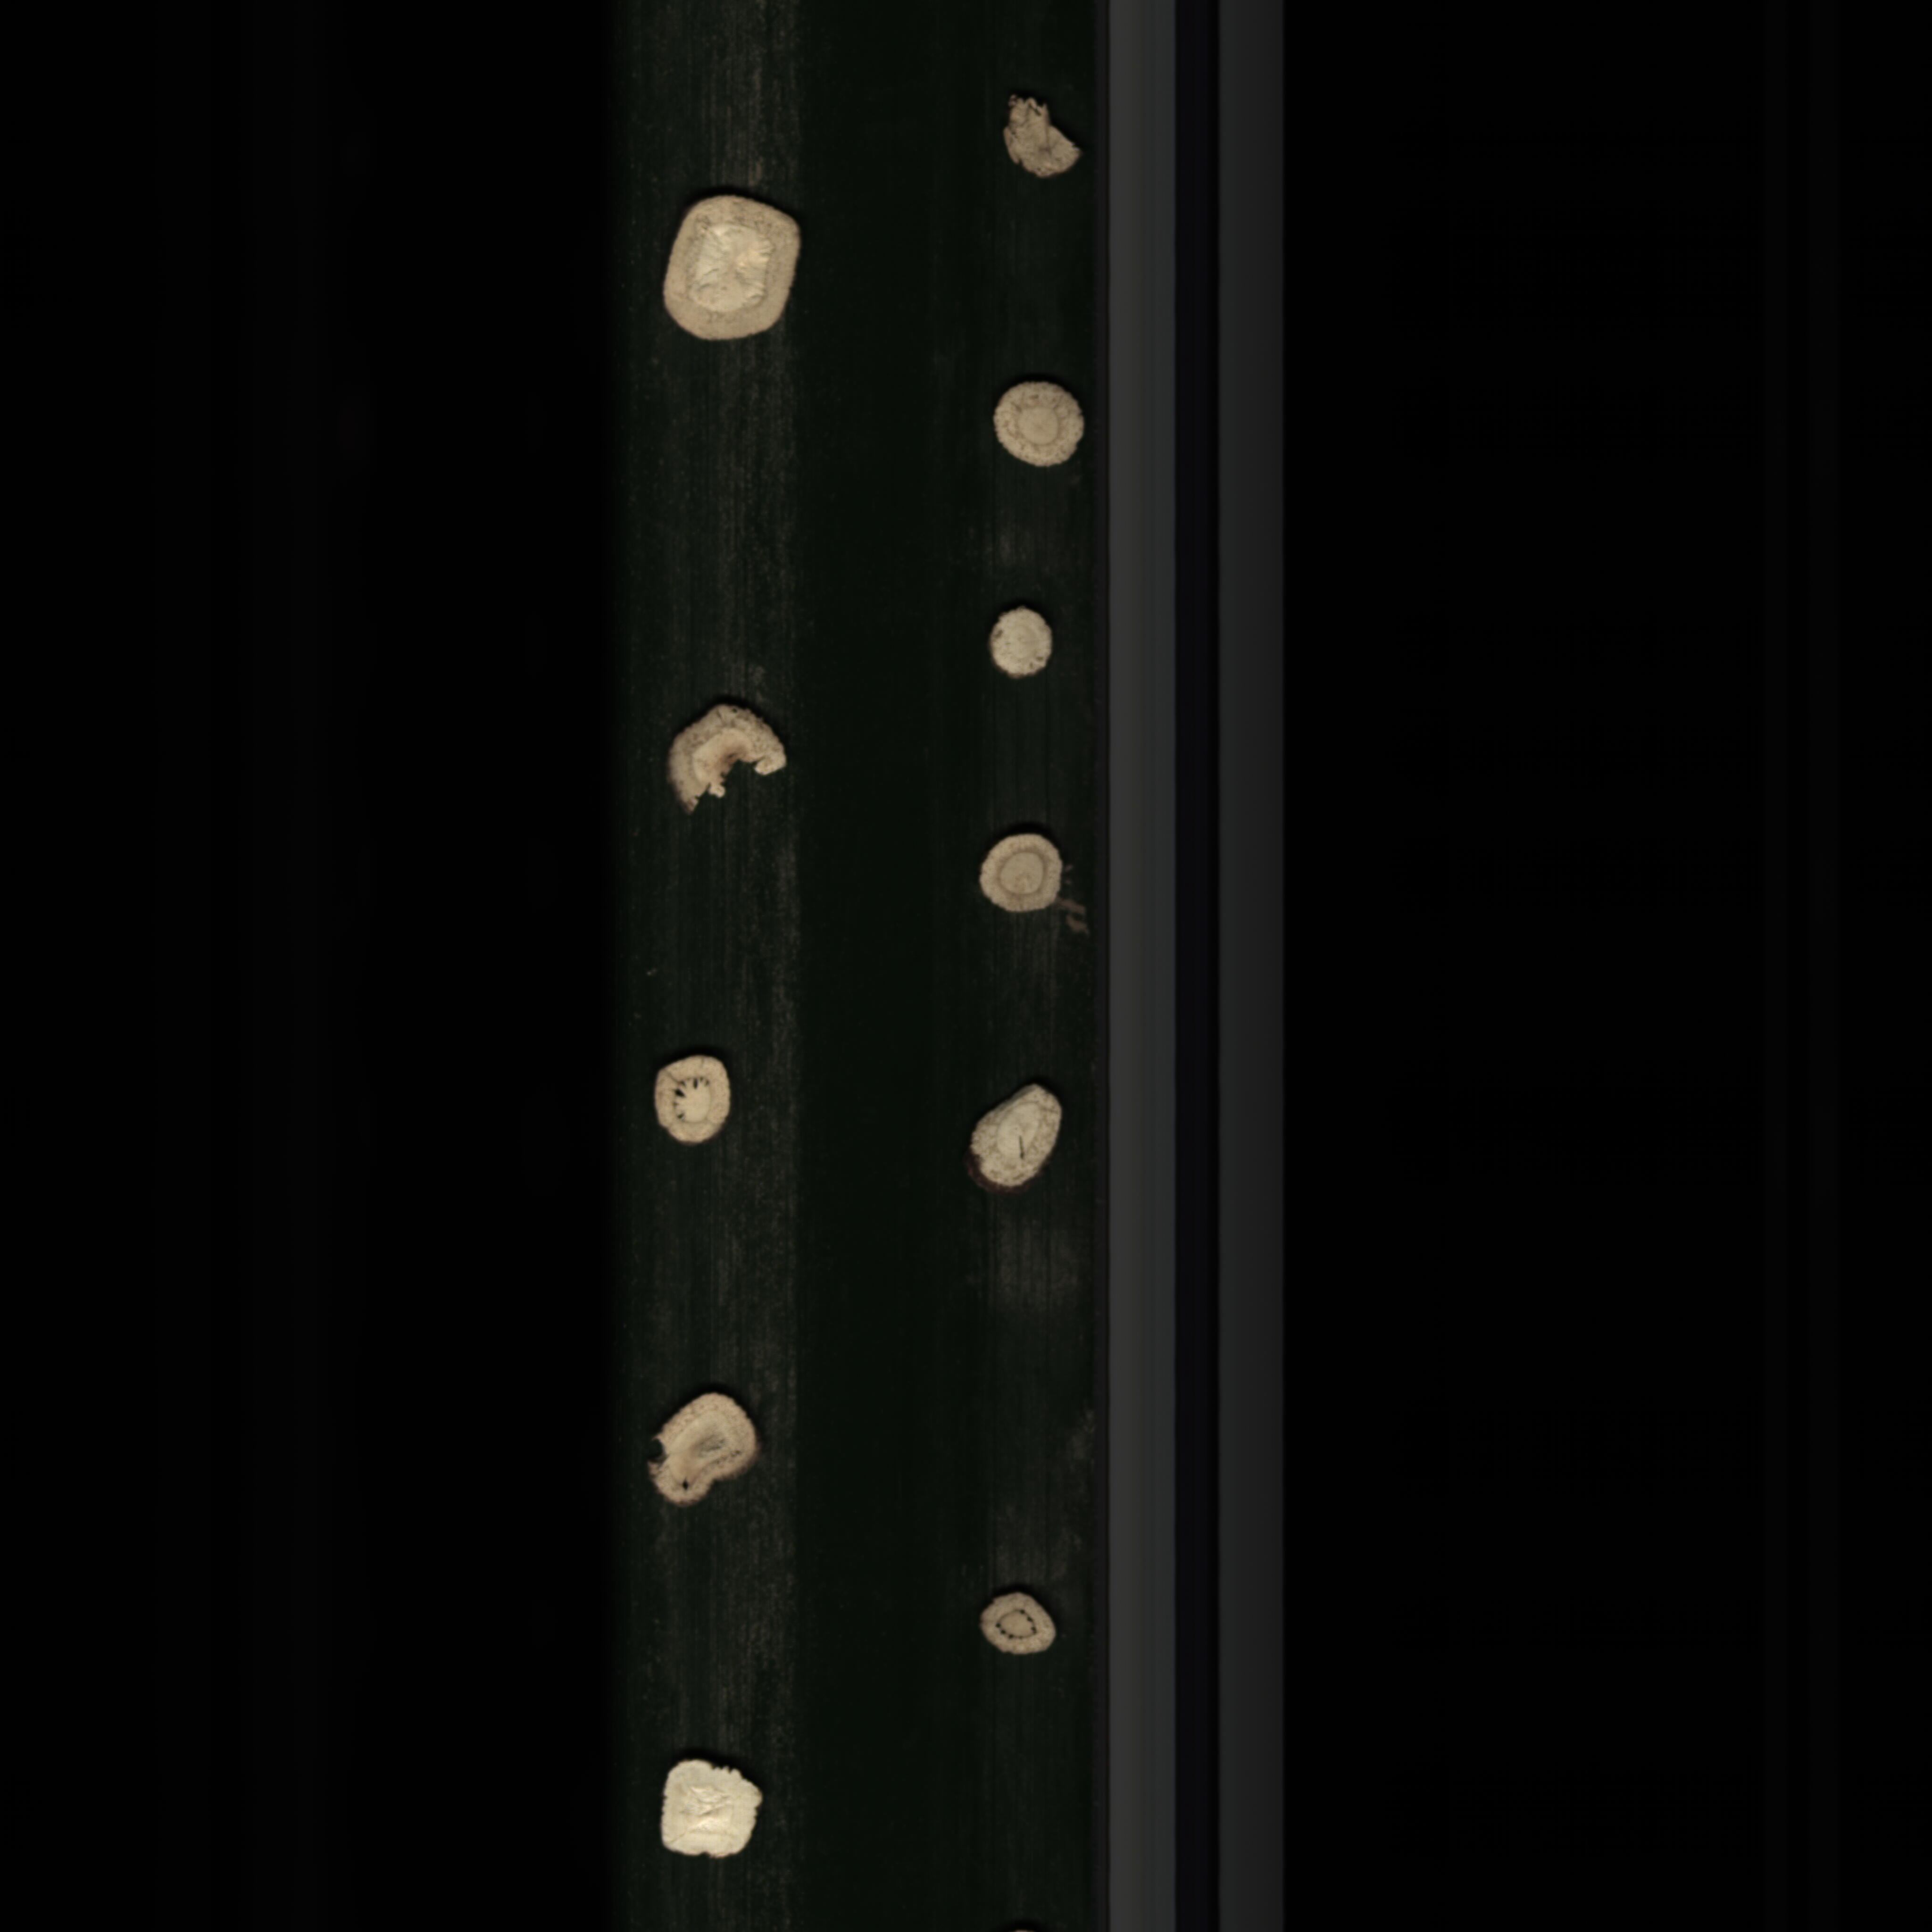bark: (998, 83, 1092, 182)
debris: (656, 692, 814, 826)
hole: (642, 1380, 764, 1513), (640, 1049, 741, 1164), (964, 1583, 1067, 1667)
